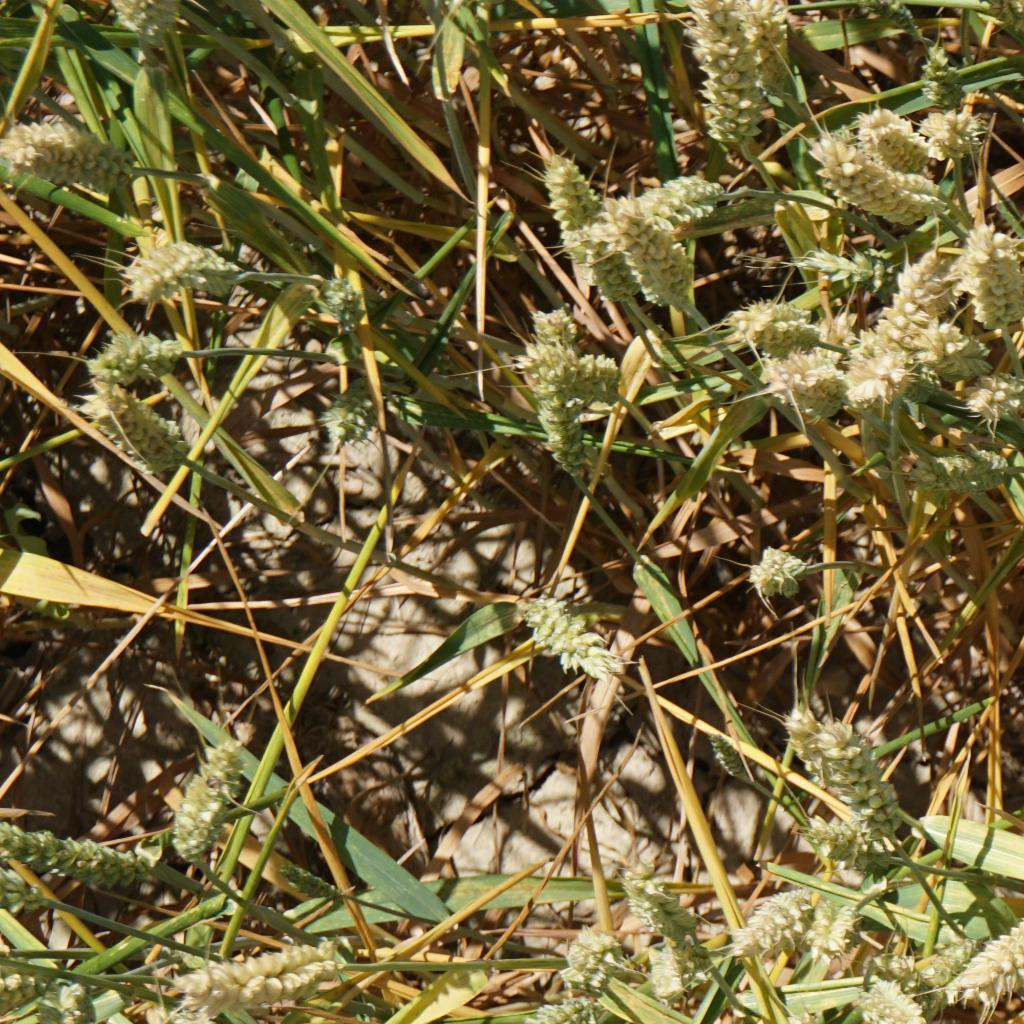0-0: (819, 132, 950, 226), (80, 379, 197, 470), (515, 583, 625, 679), (0, 822, 156, 888), (689, 0, 763, 139), (159, 948, 340, 1001), (1, 115, 137, 183), (820, 722, 902, 832), (161, 745, 240, 853), (523, 348, 593, 467), (120, 229, 247, 293), (616, 214, 698, 311), (616, 166, 735, 225), (744, 1, 807, 107), (611, 860, 698, 934), (965, 225, 1024, 331), (907, 441, 1024, 494), (955, 905, 1024, 992), (918, 53, 976, 155), (535, 150, 591, 254), (844, 342, 918, 419), (76, 327, 189, 377), (882, 250, 947, 335), (723, 296, 820, 351), (761, 352, 842, 414), (737, 881, 802, 957), (802, 820, 894, 873), (783, 705, 837, 786), (752, 541, 819, 605), (903, 322, 987, 372), (809, 245, 894, 289), (804, 899, 859, 967), (861, 109, 930, 163), (577, 240, 631, 308), (563, 929, 626, 984), (902, 934, 964, 986), (321, 395, 381, 447), (271, 860, 341, 904), (645, 934, 694, 995), (316, 272, 364, 334), (1, 963, 64, 1008), (969, 372, 1024, 421), (573, 355, 628, 404), (852, 992, 930, 1024), (531, 999, 612, 1024), (709, 726, 751, 774), (109, 0, 174, 31), (864, 946, 913, 985), (535, 309, 579, 348)
